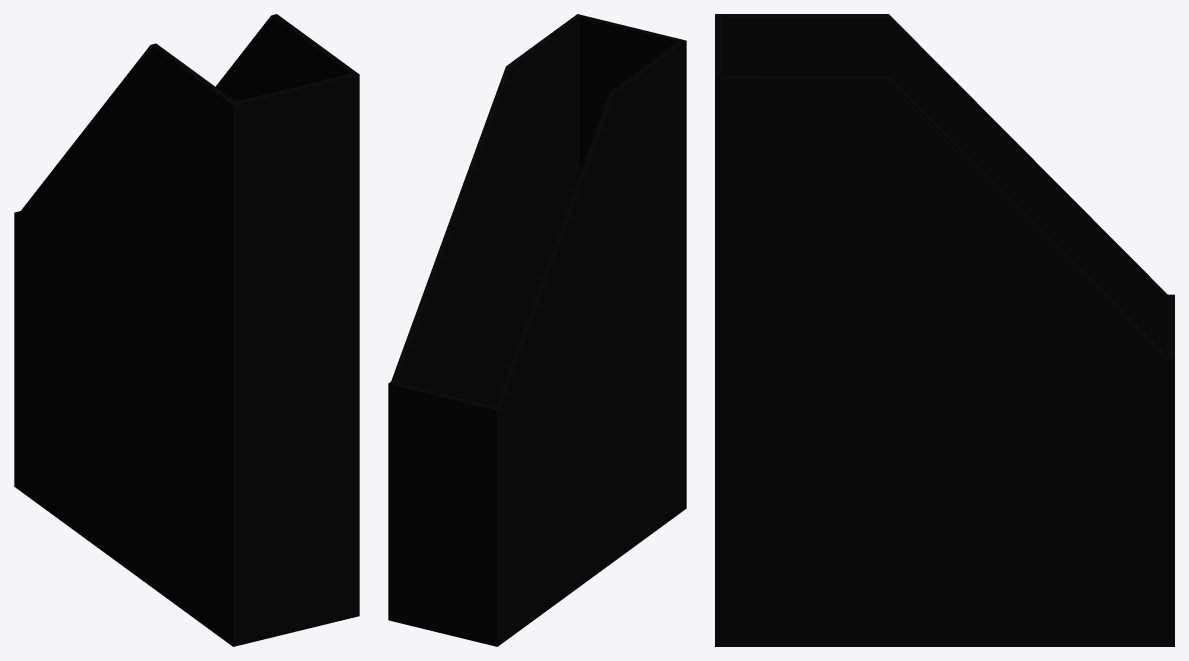
The model's file is Paper Holder(Verticle)_lod1.fbx.
3 views of the same model, side by side, from view 1: azimuth 30°, elevation 25°; view 2: azimuth 150°, elevation 25°; view 3: azimuth 270°, elevation 25° (orthographic). The views are drawn at different scales.
Parts seen in each view (by area): view 1: Paper_Holder_Verticle_; view 2: Paper_Holder_Verticle_; view 3: Paper_Holder_Verticle_.
Part boxes in pixels (left/top/right/bottom): Paper_Holder_Verticle_: left=14, top=14, right=359, bottom=646; Paper_Holder_Verticle_: left=388, top=14, right=686, bottom=646; Paper_Holder_Verticle_: left=715, top=14, right=1174, bottom=646.
Size of the model in its own units: 1.1 by 4.5 by 3.3.
